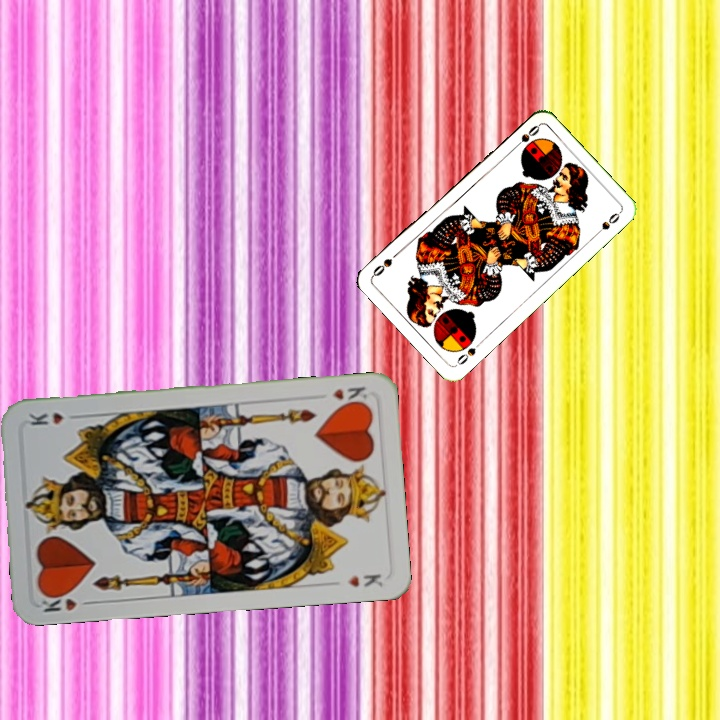HK: (37, 587, 80, 615), (328, 382, 371, 409)
SO: (508, 121, 542, 152), (452, 337, 485, 368)
